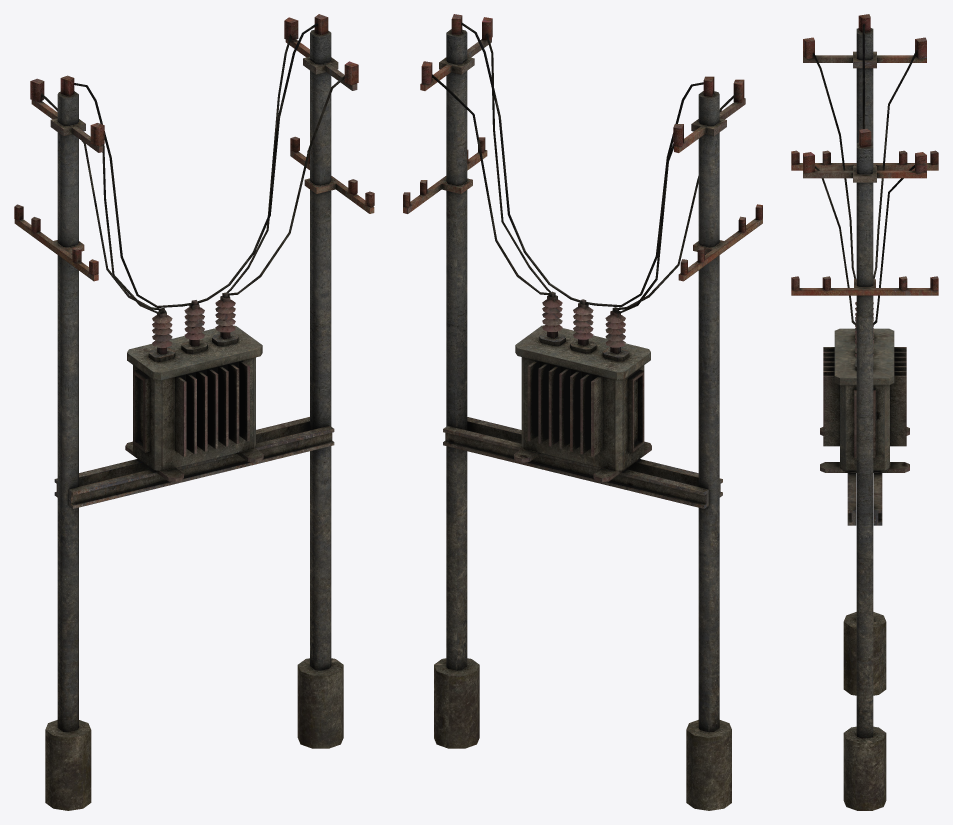
File: TransformerPole.FBX
3 renders of one model, left to right at view 1: azimuth 30°, elevation 25°; view 2: azimuth 150°, elevation 25°; view 3: azimuth 270°, elevation 25°, orthographic. The views are drawn at different scales.
Parts seen in each view (by area): view 1: TransformerPole; view 2: TransformerPole; view 3: TransformerPole.
Part boxes in pixels (x1,y1,x2,y2): TransformerPole: (14,14,374,810); TransformerPole: (403,14,762,810); TransformerPole: (791,14,938,810).
Bounding box in the file's own units: 145 × 344 × 68.5.
1 material, 1 textured.
